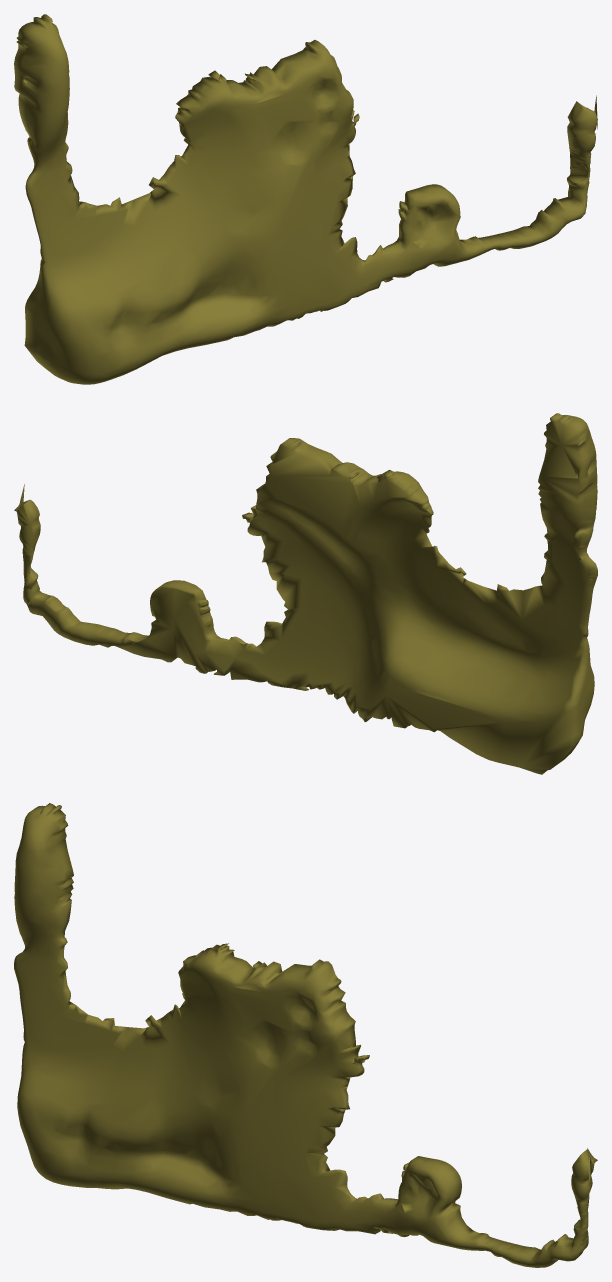
Rendered from row7.obj.
The picture shows the model from 3 angles, top to bottom: view 1: azimuth 30°, elevation 25°; view 2: azimuth 150°, elevation 25°; view 3: azimuth 330°, elevation 25°; orthographic projection.
Parts seen in each view (by area): view 1: row_7; view 2: row_7; view 3: row_7.
Part boxes in pixels (box(x1,y1,x2,y2)): row_7: box(14, 14, 597, 384); row_7: box(14, 413, 597, 774); row_7: box(14, 803, 597, 1267).
Size of the model in its own units: 5.41 by 3.25 by 0.5806.
